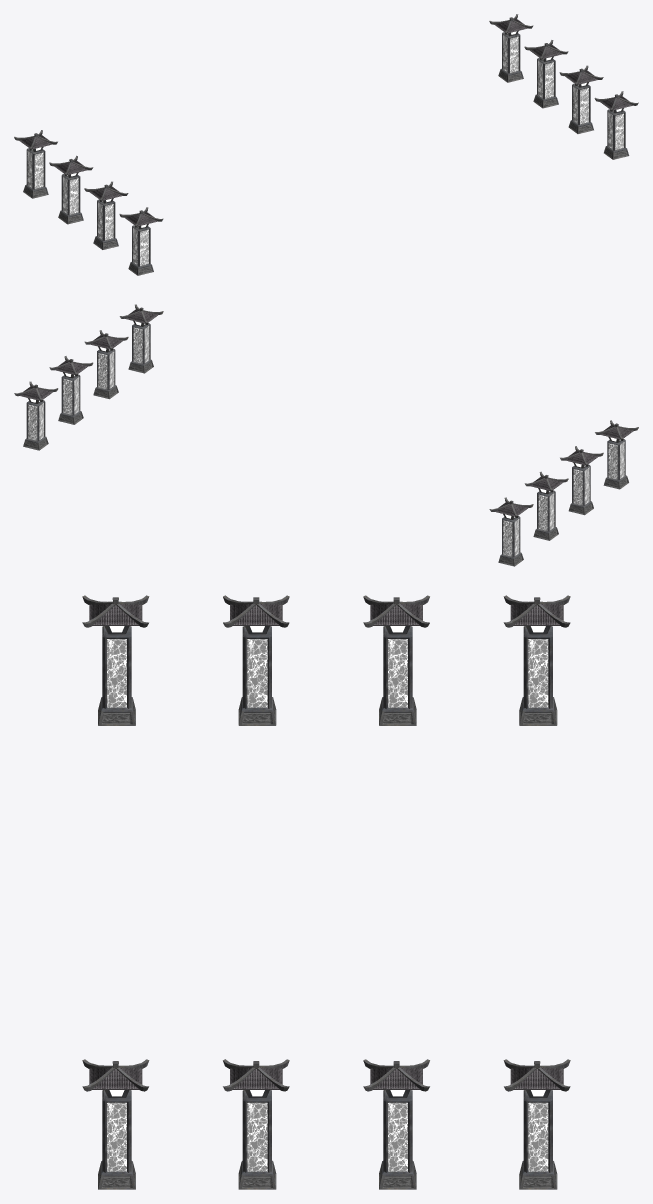
The model's file is A4_Lamppost.fbx.
3 views of the same model, one above another, from view 1: azimuth 30°, elevation 25°; view 2: azimuth 150°, elevation 25°; view 3: azimuth 270°, elevation 25° (orthographic). The views are drawn at different scales.
Parts seen in each view (by area): view 1: Box03, Box04, Box06, Box01, Box05, Box07, Box08, Box02; view 2: Box06, Box05, Box03, Box02, Box07, Box01, Box04, Box08; view 3: Box05, Box04, Box07, Box08, Box02, Box01, Box06, Box03.
Boxes of the visible parts, x1,y1,x2,y2 form: Box03: (49, 155, 93, 224); Box04: (14, 130, 57, 198); Box06: (524, 40, 568, 108); Box01: (119, 207, 163, 275); Box05: (489, 14, 533, 82); Box07: (559, 65, 603, 133); Box08: (594, 91, 638, 159); Box02: (84, 181, 128, 249); Box06: (49, 356, 93, 424); Box05: (14, 381, 58, 450); Box03: (524, 471, 568, 540); Box02: (560, 446, 603, 515); Box07: (84, 330, 128, 399); Box01: (595, 420, 638, 489); Box04: (489, 497, 533, 566); Box08: (119, 304, 163, 373); Box05: (503, 1059, 570, 1189); Box04: (503, 595, 570, 725); Box07: (223, 1059, 289, 1189); Box08: (82, 1059, 149, 1189); Box02: (223, 595, 289, 725); Box01: (82, 595, 149, 725); Box06: (363, 1059, 429, 1189); Box03: (363, 595, 429, 725).
Bounding box in the file's own units: 2674 × 303 × 1122.
2 materials, 1 textured.
